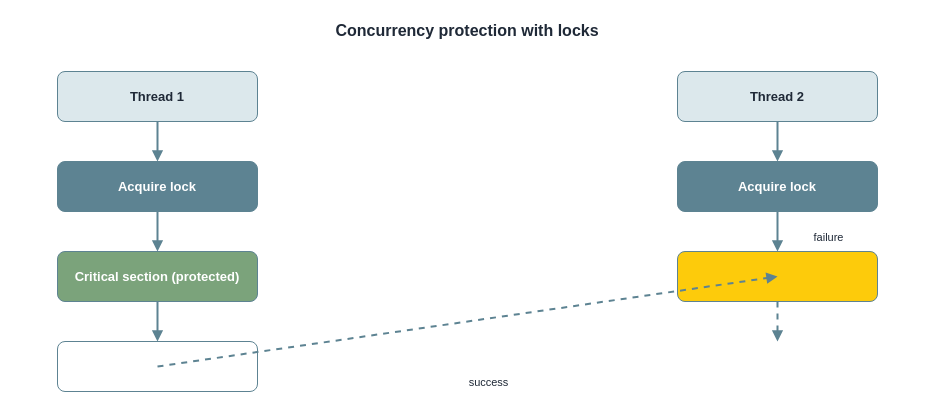
Image size: 934x411. Some labels were removed from this diagram. Each missing label, with the centre of its shape:
Release lock: pixel 157 366
Wait for lock release / try again: pixel 777 276
